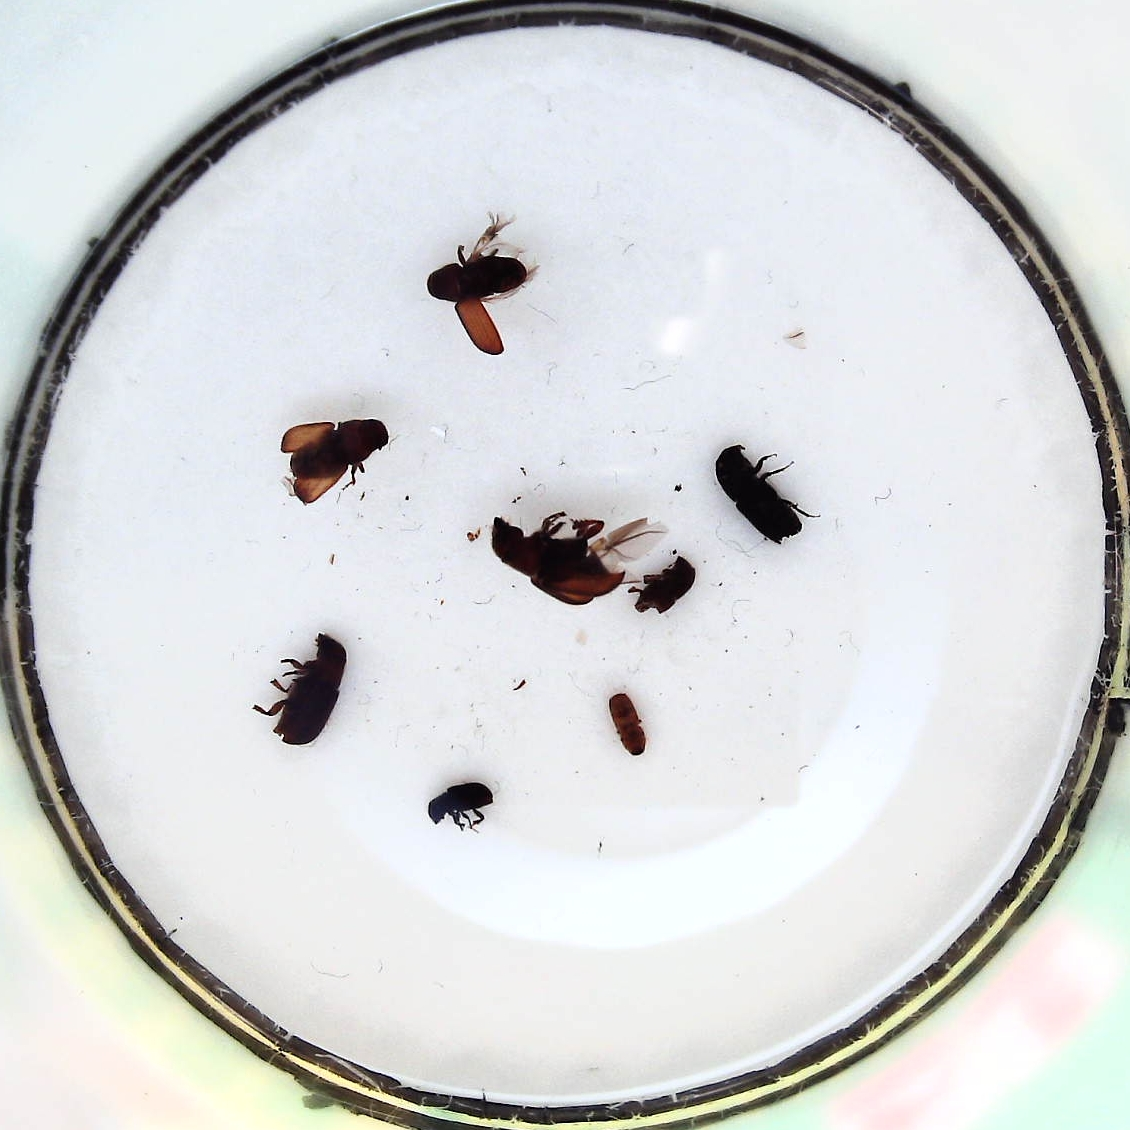Boerner: (715, 438, 805, 546)
Leconte: (489, 508, 630, 602), (425, 238, 533, 358), (251, 626, 349, 746), (277, 417, 394, 505)
Linnaeus: (631, 553, 697, 617)
acuminatus: (607, 684, 649, 759)
armandi: (426, 779, 495, 831)
